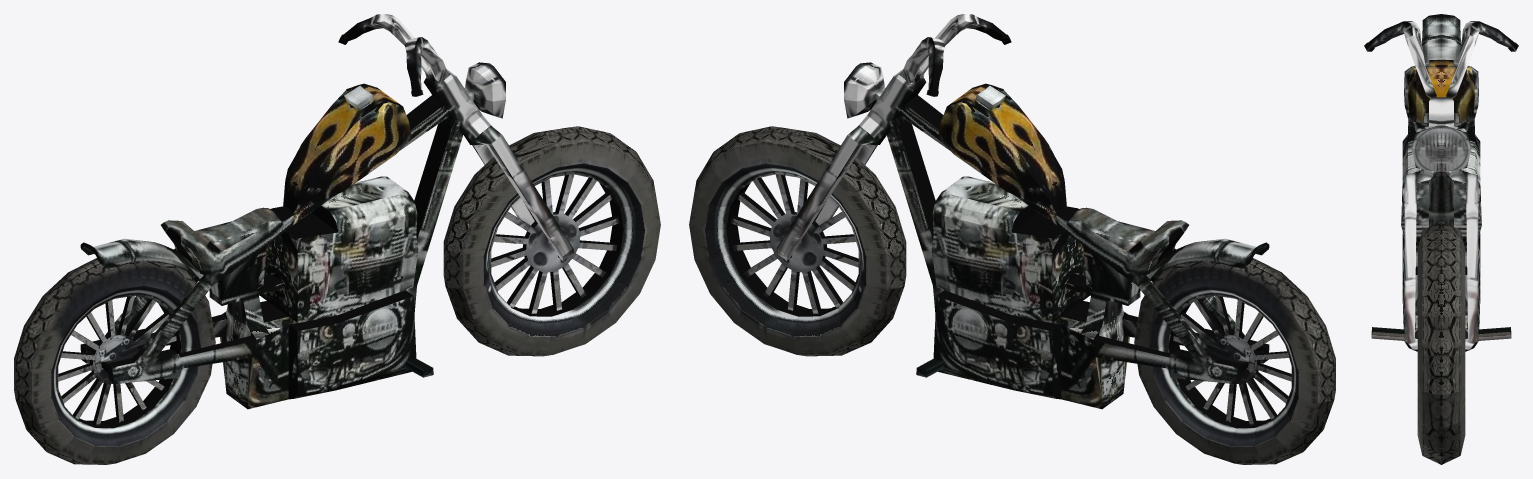
File: bike3.glb
3 views of the same model, side by side, from view 1: azimuth 30°, elevation 25°; view 2: azimuth 150°, elevation 25°; view 3: azimuth 270°, elevation 25° (orthographic).
Visible parts, largest first — view 1: Cube, Front-Wheel, Back-Wheel, Fork; view 2: Cube, Front-Wheel, Back-Wheel, Fork; view 3: Front-Wheel, Cube, Fork.
Boxes of the visible parts, x1=… form: Cube: x1=80, y1=83, x2=463, y2=409; Front-Wheel: x1=443, y1=126, x2=660, y2=356; Back-Wheel: x1=14, y1=258, x2=215, y2=464; Fork: x1=338, y1=14, x2=574, y2=260; Cube: x1=886, y1=83, x2=1269, y2=409; Front-Wheel: x1=689, y1=126, x2=906, y2=356; Back-Wheel: x1=1134, y1=258, x2=1335, y2=464; Fork: x1=775, y1=14, x2=1011, y2=260; Front-Wheel: x1=1417, y1=221, x2=1465, y2=464; Cube: x1=1371, y1=14, x2=1511, y2=351; Fork: x1=1364, y1=21, x2=1518, y2=350.
Size of the model in its own units: 4.98 by 2.71 by 1.05.
4 materials, 4 textured.
